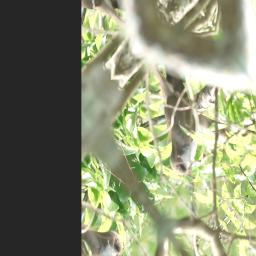Cuckoo: (121, 50, 228, 190)
